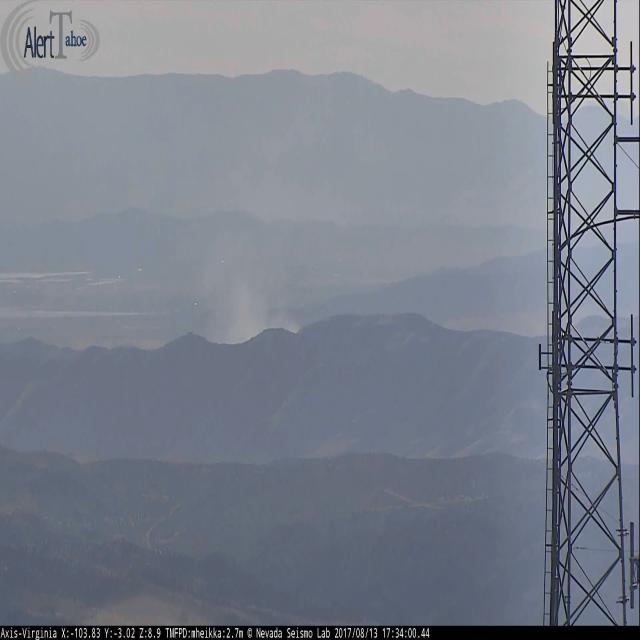smoke: (205, 246, 300, 345)
